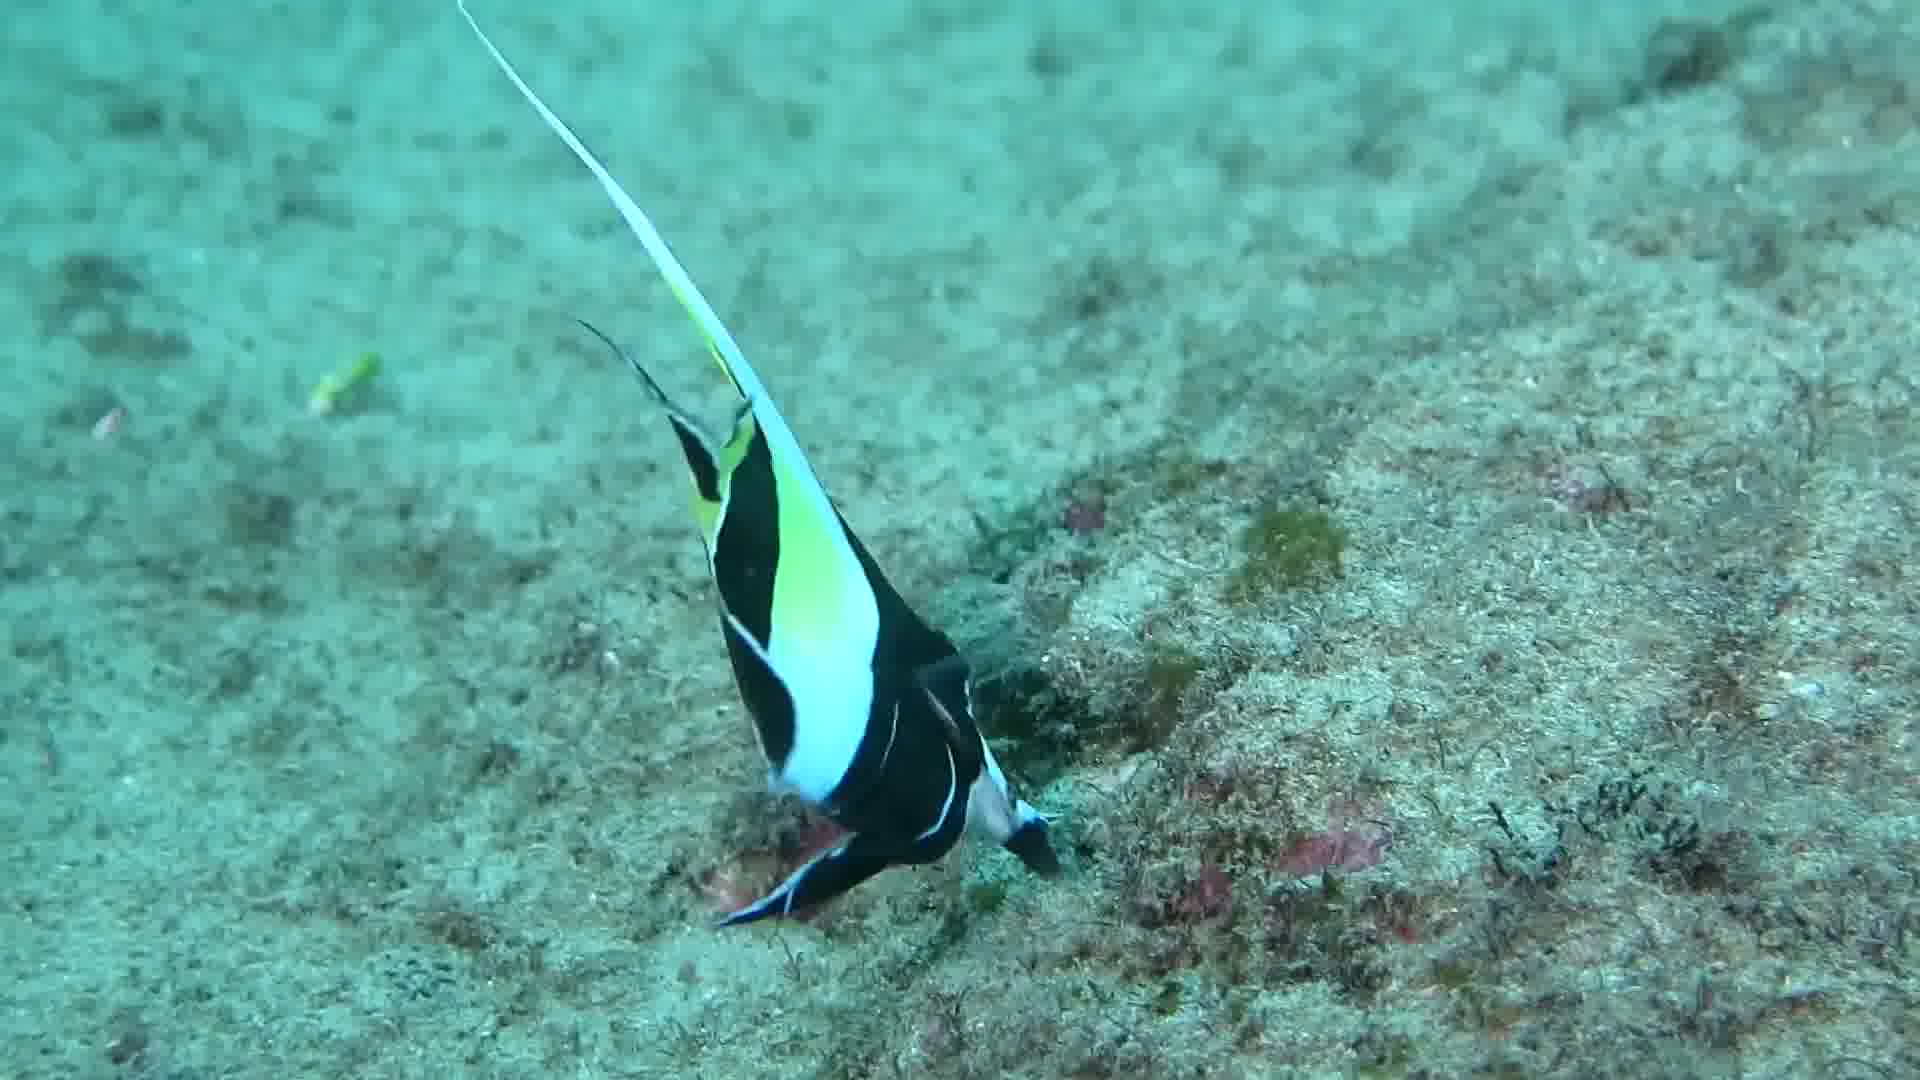Zanclus cornutus: (510, 310, 1172, 1014)
